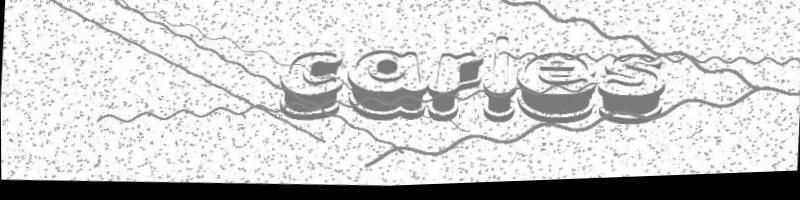a: (343, 48, 429, 126)
c: (275, 50, 344, 125)
e: (514, 52, 598, 130)
l: (480, 36, 519, 127)
r: (425, 51, 484, 127)
s: (595, 54, 666, 131)
